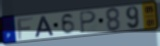6: (61, 13, 77, 35)
8: (105, 7, 122, 33)
9: (126, 6, 142, 30)
A: (34, 15, 56, 39)
F: (16, 16, 35, 40)
P: (78, 10, 97, 35)
